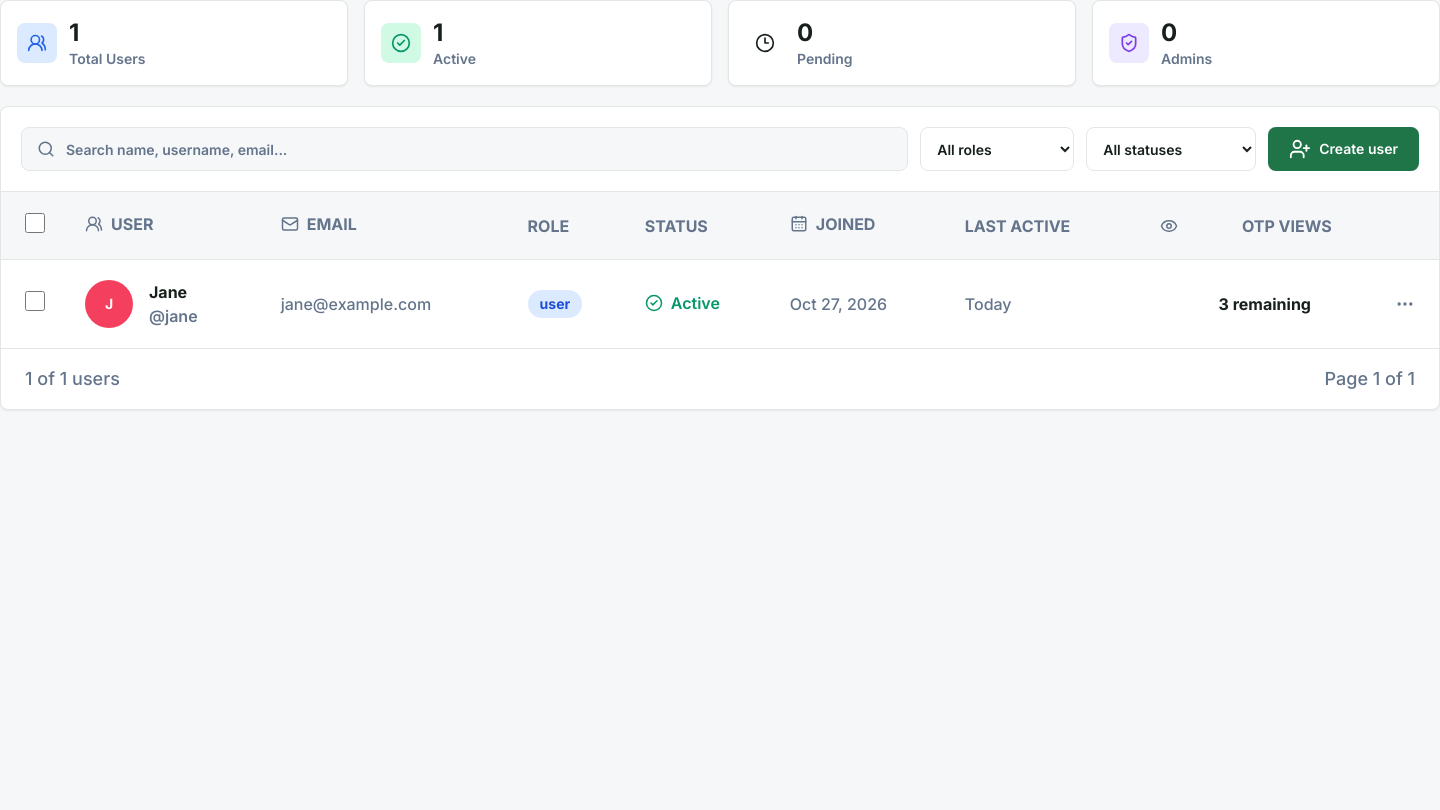
admin workflows › restores focus on Escape and keeps keyboard focus inside the dialog
Click the button "Create user" at (1344,149), box [1268,127,1419,171]
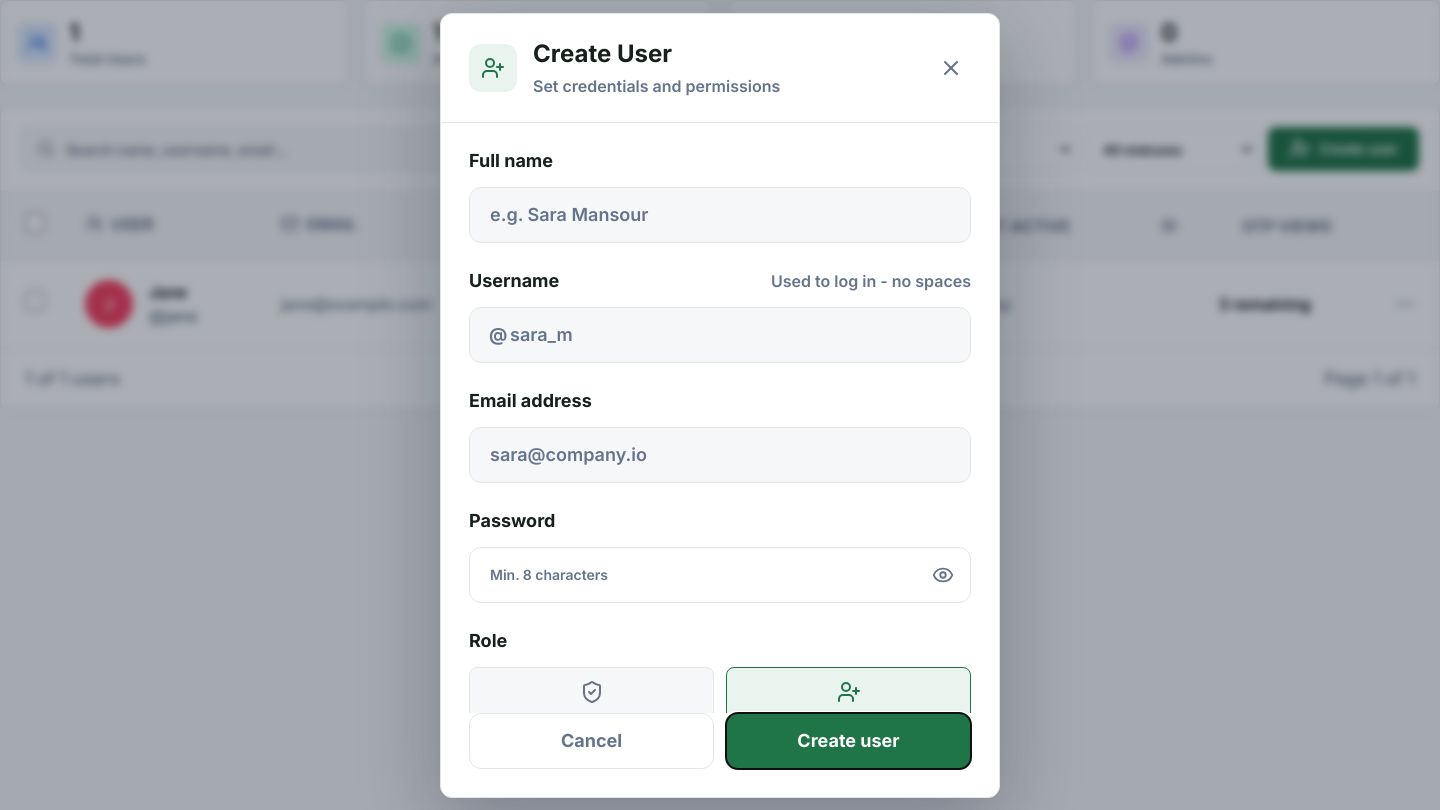
Press Tab
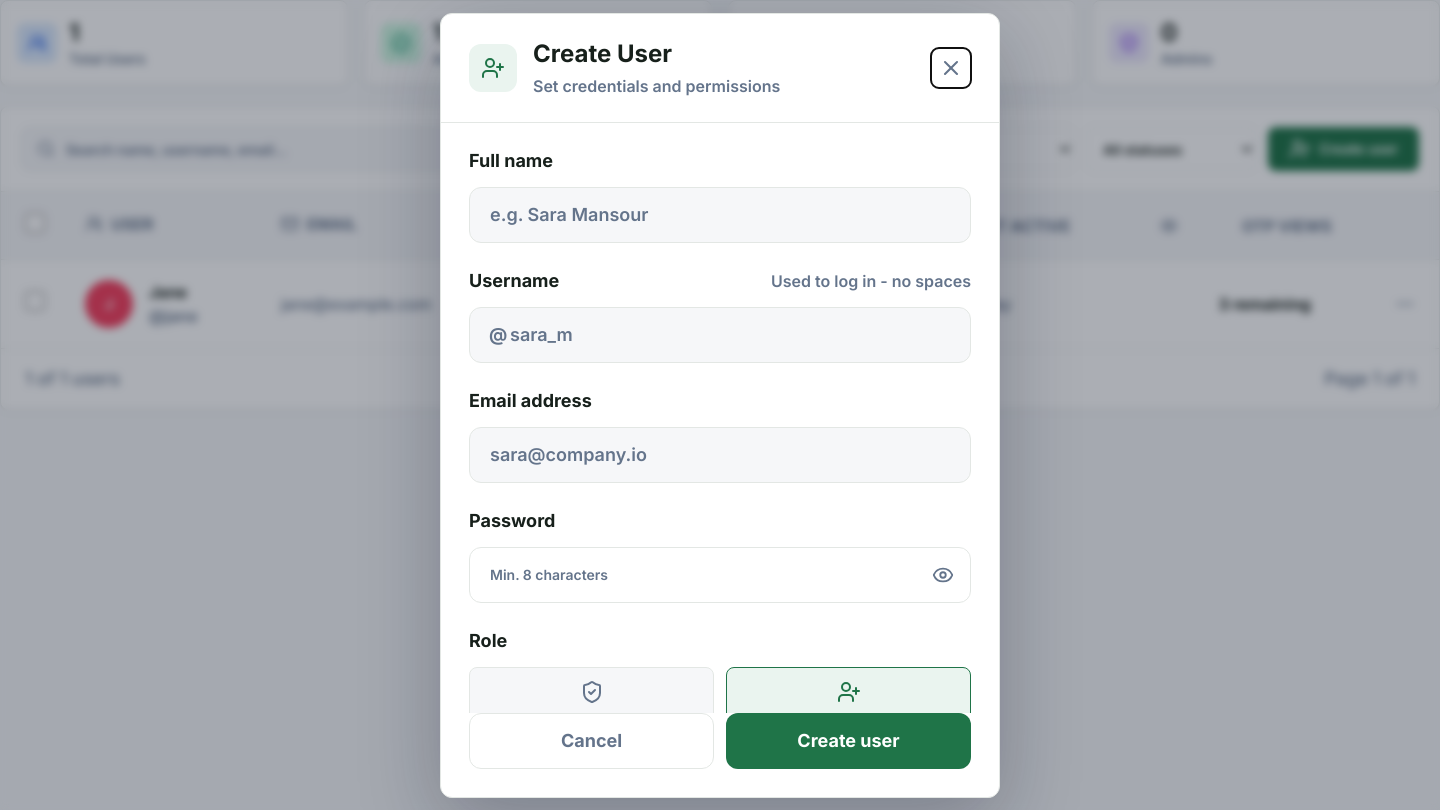
Press Escape
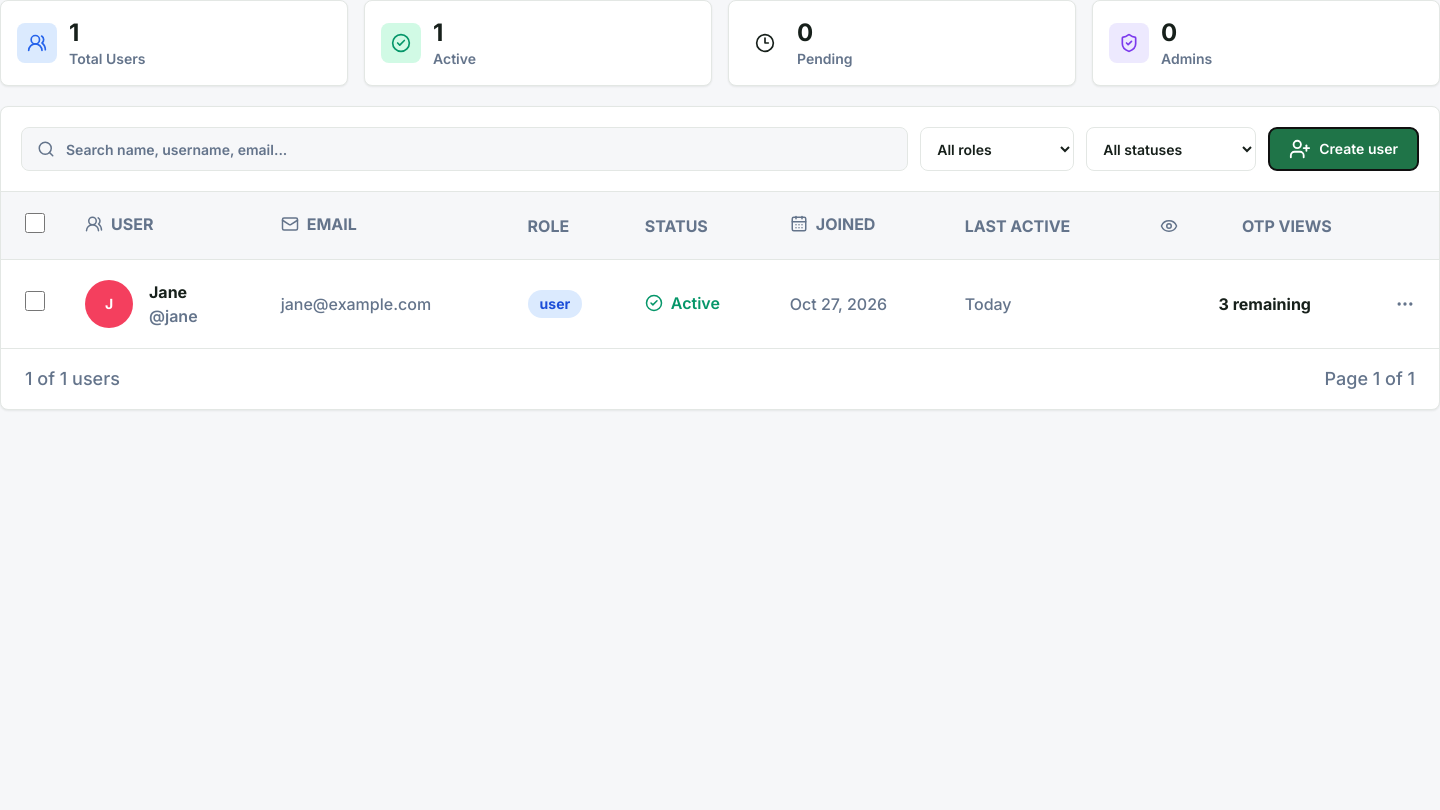
expect the dialog is gone: met
